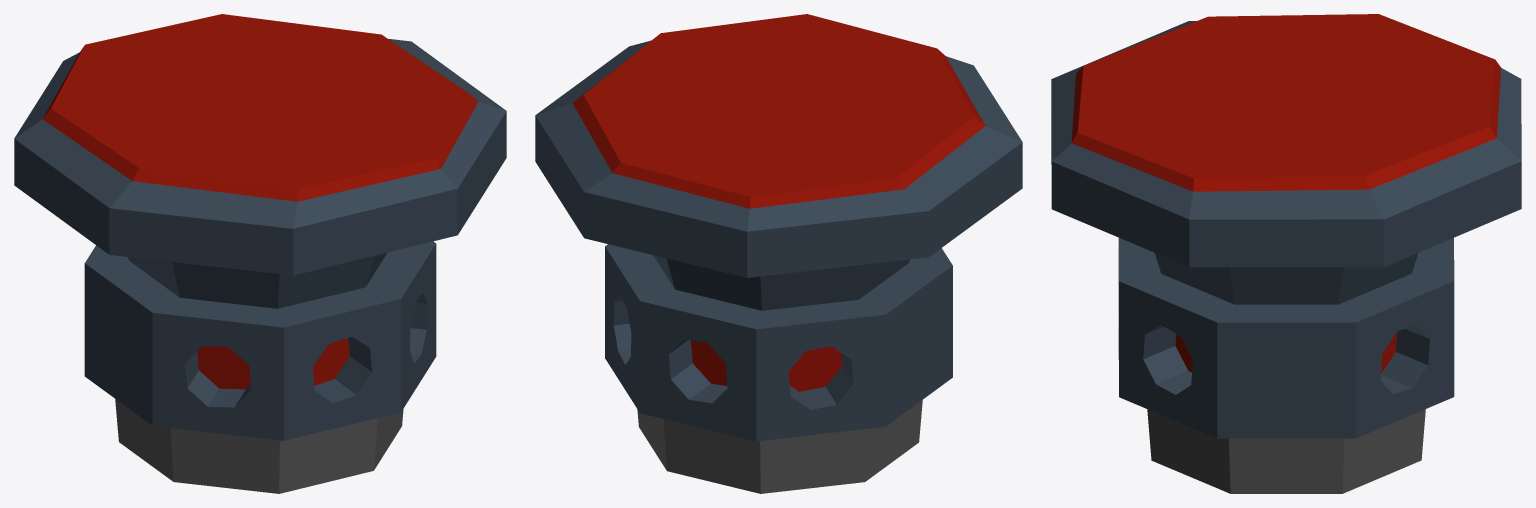
File: Obstacle2.fbx
3 renders of one model, left to right at view 1: azimuth 30°, elevation 25°; view 2: azimuth 150°, elevation 25°; view 3: azimuth 270°, elevation 25°, orthographic. The views are drawn at different scales.
Parts seen in each view (by area): view 1: Obstacle2; view 2: Obstacle2; view 3: Obstacle2.
Boxes of the visible parts, x1=… form: Obstacle2: x1=14, y1=14, x2=506, y2=493; Obstacle2: x1=535, y1=14, x2=1022, y2=493; Obstacle2: x1=1051, y1=14, x2=1521, y2=493.
Size of the model in its own units: 27.28 by 21.81 by 27.28.
